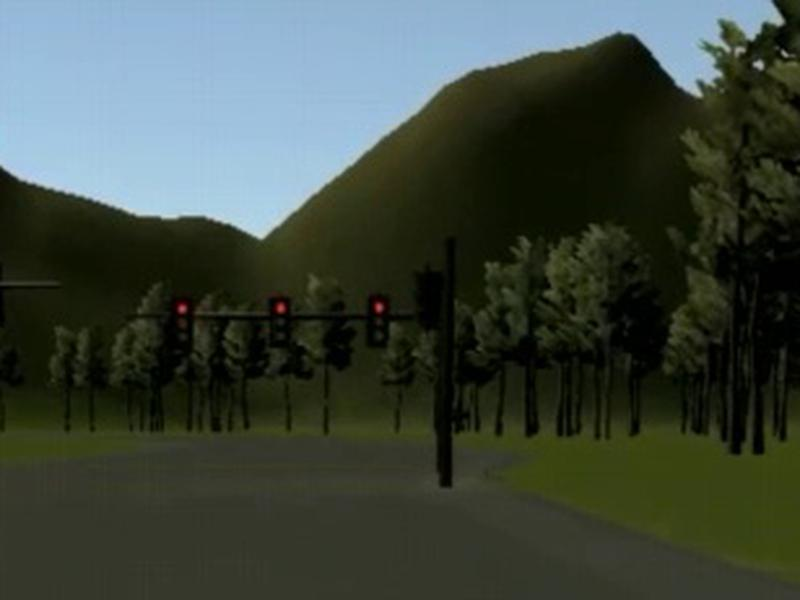Red: (364, 295, 391, 348), (270, 297, 292, 347), (172, 297, 193, 349)
